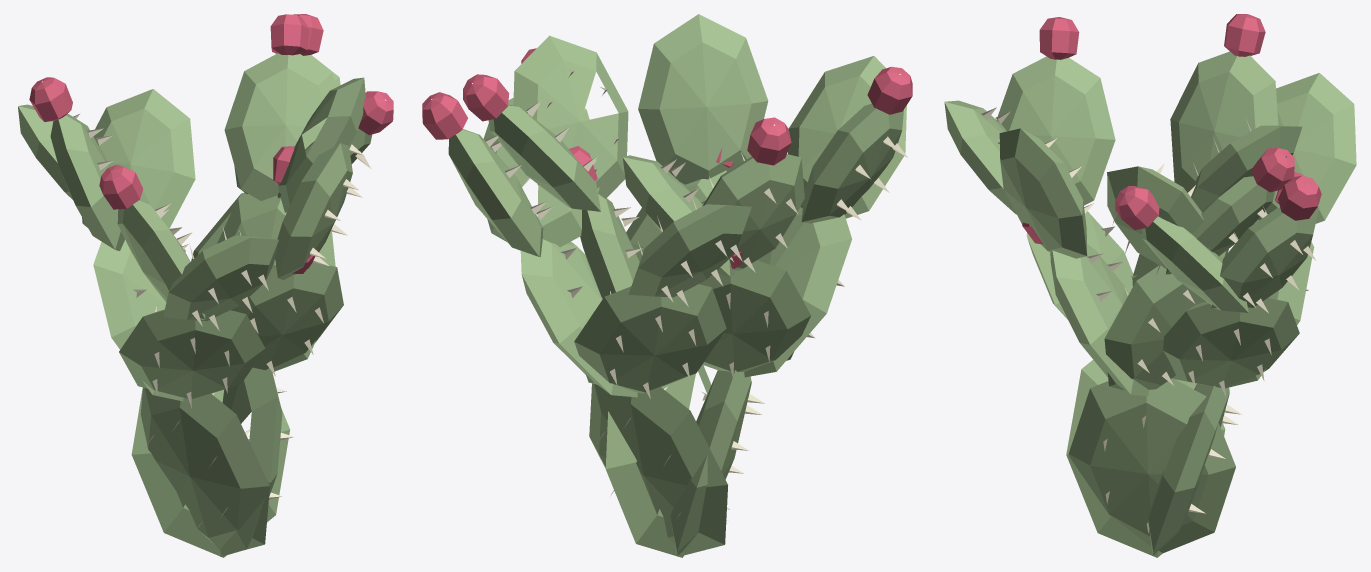
Rendered from cactus-pear-b.glb.
3 views of the same model, side by side, from view 1: azimuth 30°, elevation 25°; view 2: azimuth 150°, elevation 25°; view 3: azimuth 270°, elevation 25° (orthographic). The views are drawn at different scales.
Visible parts, largest first — view 1: cactus-pear-b; view 2: cactus-pear-b; view 3: cactus-pear-b.
Part boxes in pixels (left/top/right/bottom): cactus-pear-b: left=18, top=14, right=393, bottom=557; cactus-pear-b: left=422, top=14, right=912, bottom=557; cactus-pear-b: left=944, top=14, right=1356, bottom=557.
Size of the model in its own units: 0.5001 by 0.6701 by 0.5263.
